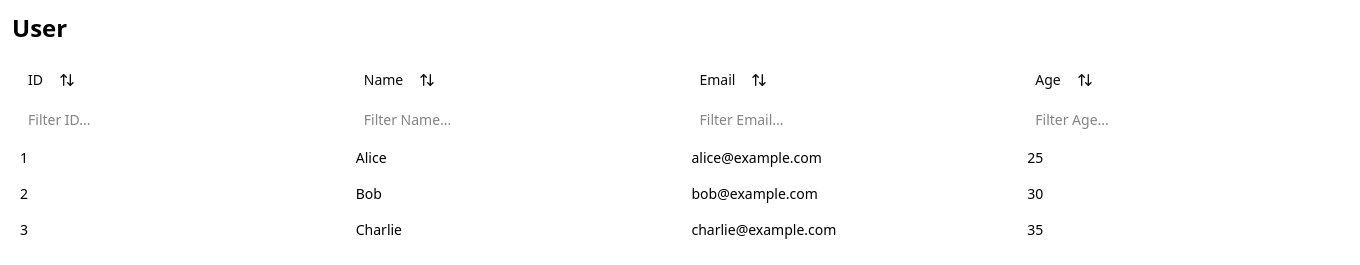
ListView - Table Filtering › should provide Clear Filters button - Requirement 36.4
Note: Filter by name
In the field with placeholder "Filter Name...": [516, 120] box [356,106,676,134], type "Alice"
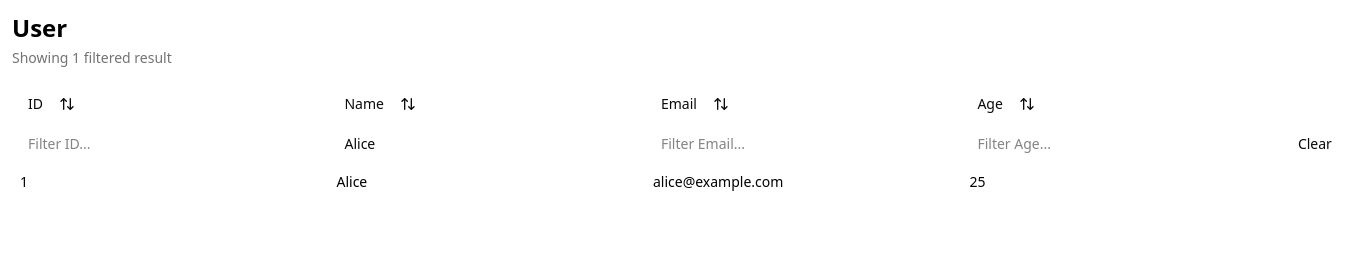
Check: the text "Alice" is shown, box [328,164,645,200]
Check: the text "Bob" is gone
Note: Click Clear button
Click the button "Clear": [1315, 144] box [1286,126,1344,162]
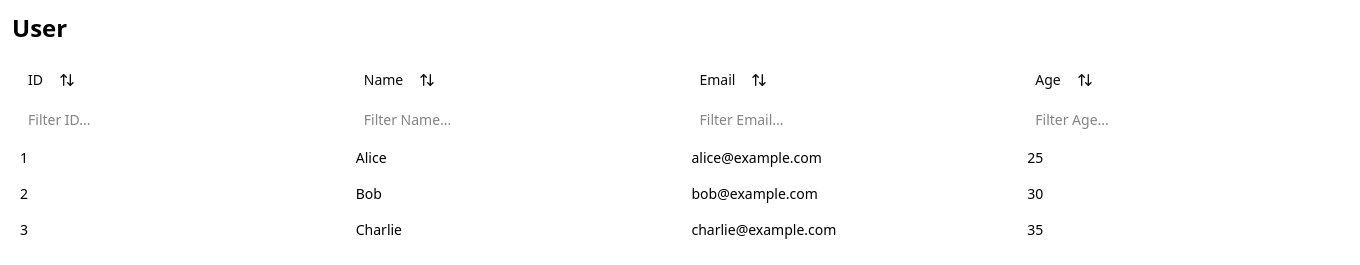
Check: the text "Alice" is shown, box [348,140,684,176]
Check: the text "Bob" is shown, box [348,176,684,212]
Check: the text "Charlie" is shown, box [348,212,684,248]
